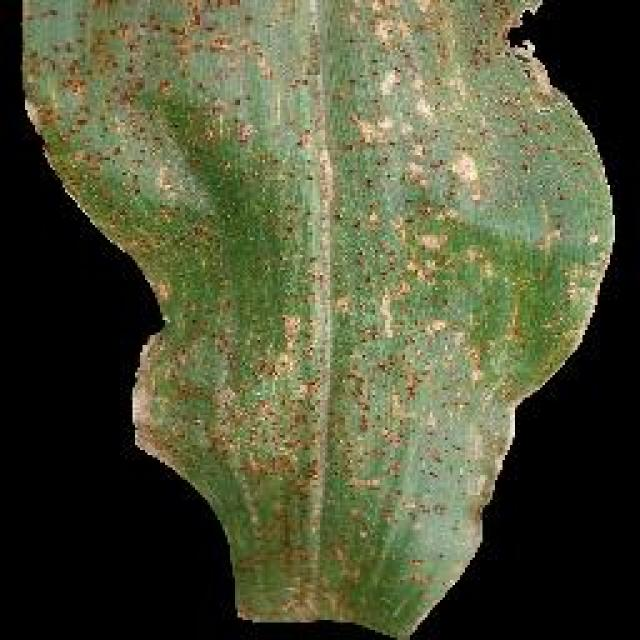Corn Common Rust: (241, 0, 605, 613)
